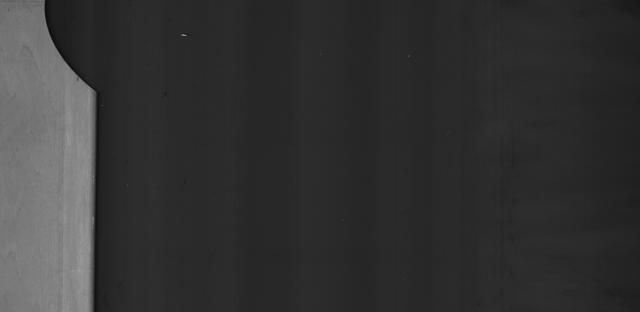crescent_gap: (38, 0, 132, 111)
